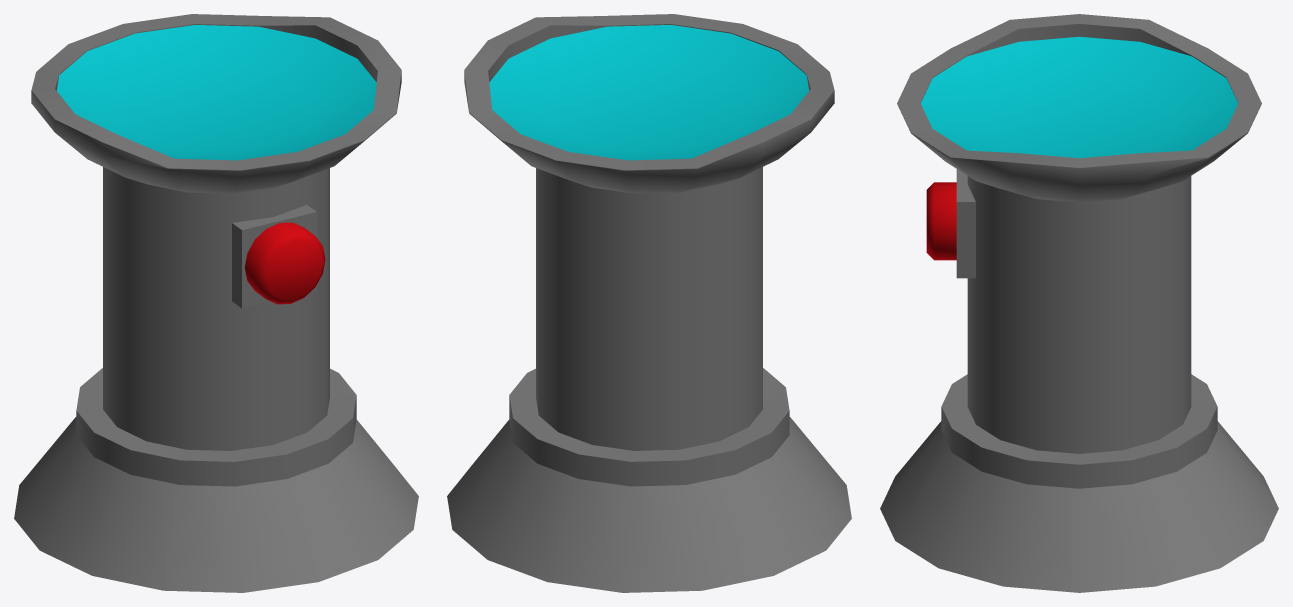
The model's file is pedestal.fbx.
The picture shows the model from 3 angles, left to right: view 1: azimuth 30°, elevation 25°; view 2: azimuth 150°, elevation 25°; view 3: azimuth 270°, elevation 25°; orthographic projection. The views are drawn at different scales.
Visible parts, largest first — view 1: Cylinder, Cylinder.001; view 2: Cylinder; view 3: Cylinder, Cylinder.001.
Boxes of the visible parts, <box> form: Cylinder: <box>14,14,418,592</box>; Cylinder.001: <box>244,222,325,304</box>; Cylinder: <box>447,14,851,592</box>; Cylinder: <box>880,14,1278,592</box>; Cylinder.001: <box>926,182,956,260</box>.
Bounding box in the file's own units: 356 × 412 × 356.
